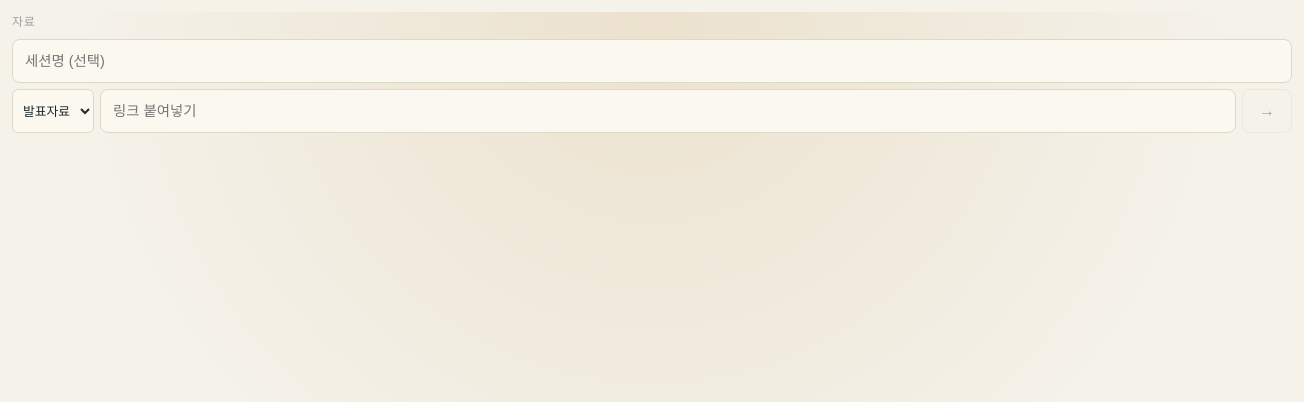
Test case: EventMaterials › shows the server error when attaching fails
Type "https://x.y" into the field named "자료 링크 입력" at (668, 111), box [100,89,1236,133]
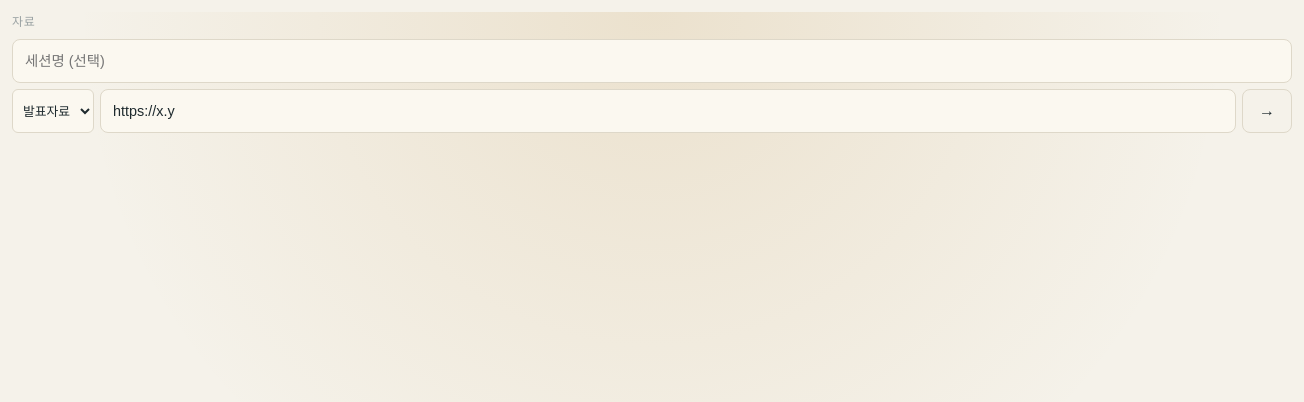
Click the button named "자료 붙이기 제출" at (1267, 111), box [1242,89,1292,133]
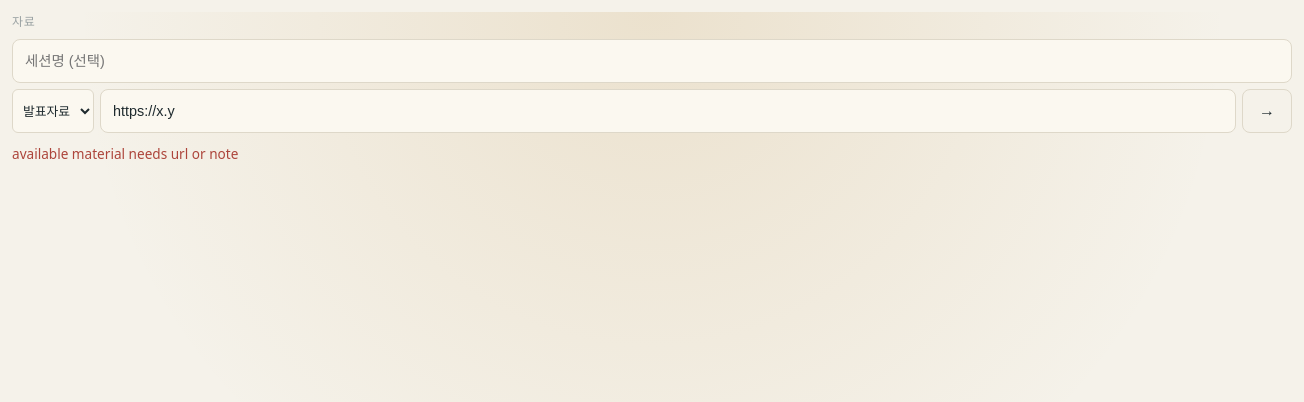
Now the message reads "available material needs url or note", box [12,144,238,163]
